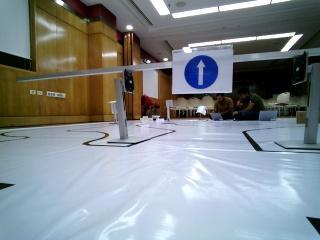straight: (170, 48, 233, 94)
